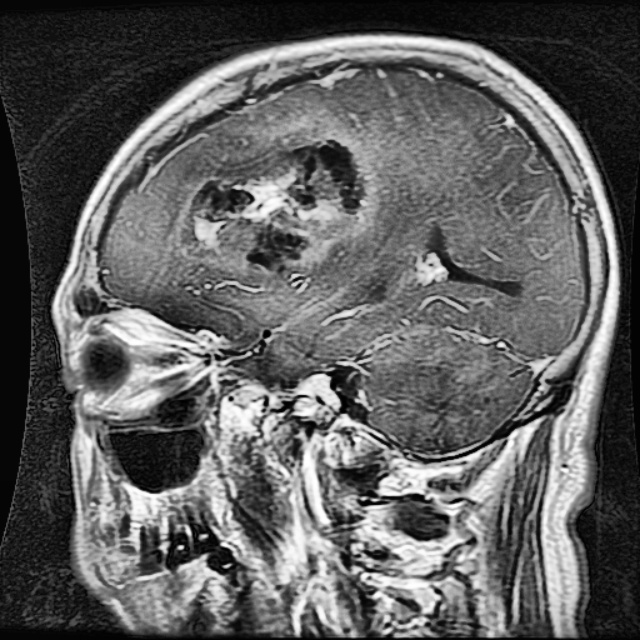Meningioma: (178, 144, 384, 278)
